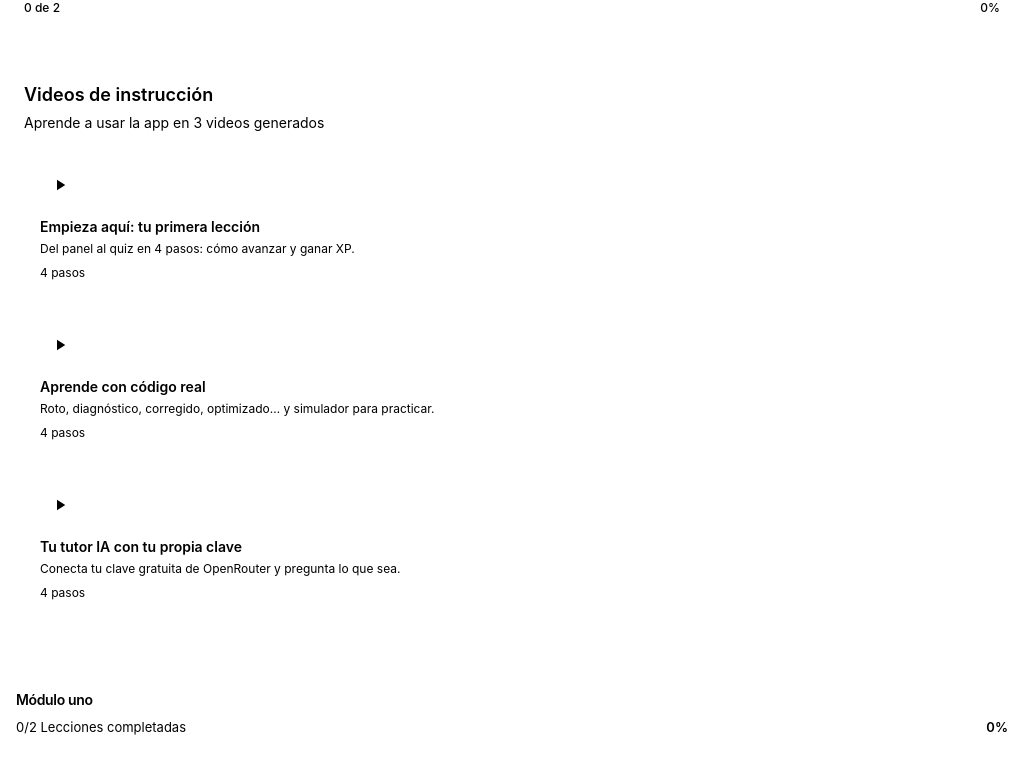
Dashboard bento › muestra los 3 videos de instruccion y abrir uno muestra el reproductor
(page scrolled)
Check: the text "Empieza aquí: tu primera lección" is shown, box x1=40 y1=218 x2=260 y2=235
Check: the text "Aprende con código real" is shown, box x1=40 y1=378 x2=206 y2=395
Step 1. Click the text "Tu tutor IA con tu propia clave" → click(141, 546), box x1=40 y1=538 x2=242 y2=555
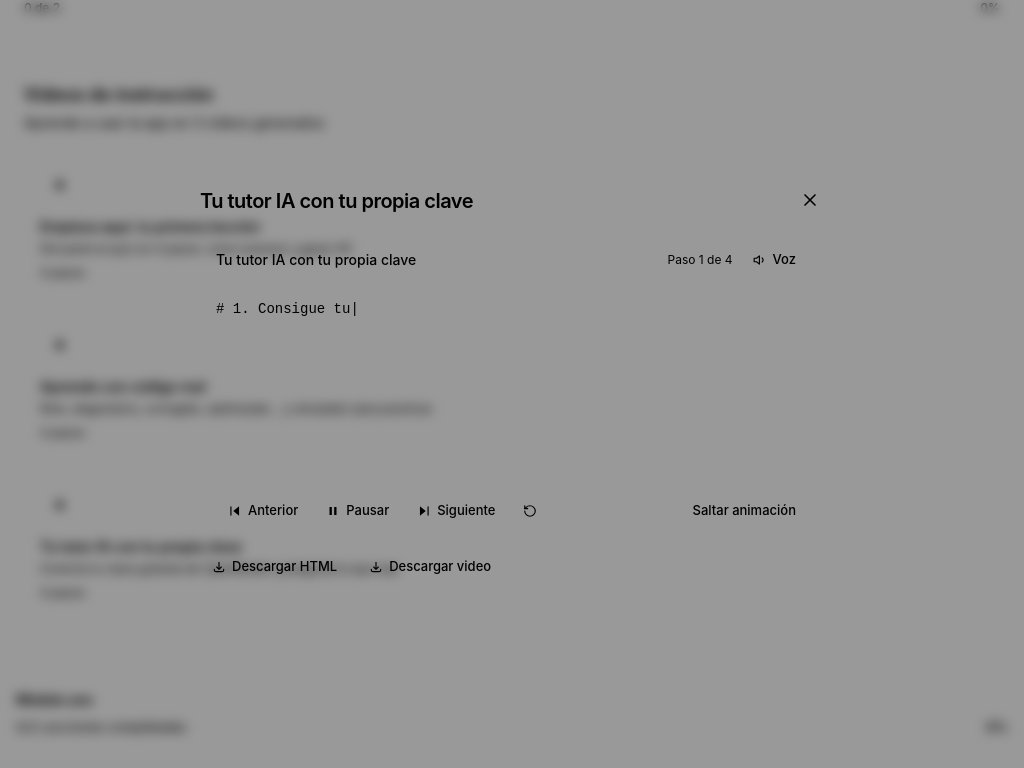
Check: the text "Paso 1 de 4" is shown, box x1=668 y1=252 x2=732 y2=268
